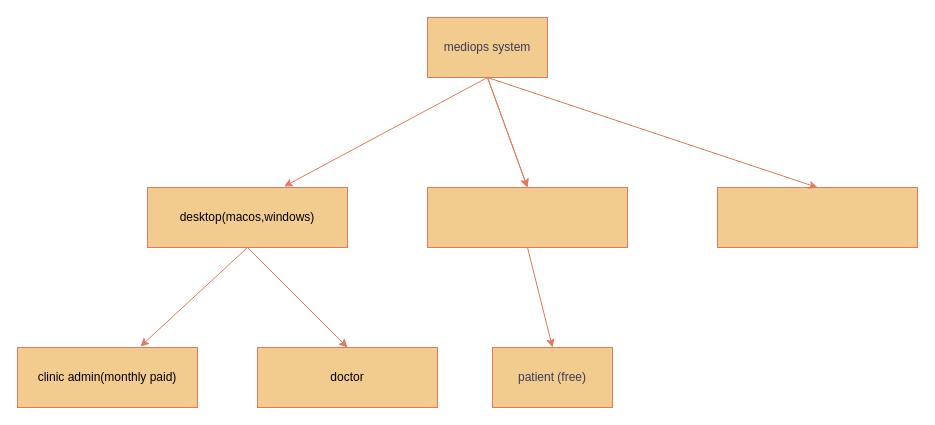
Some shapes in this 935 by 425 pixel diagram are drawn without their labels. Here are the shapes that lost their labels. From the top down, the centre of each, then its label:
point (527, 217): mobile (android,ios)
point (817, 217): system admin (macos,windows)
